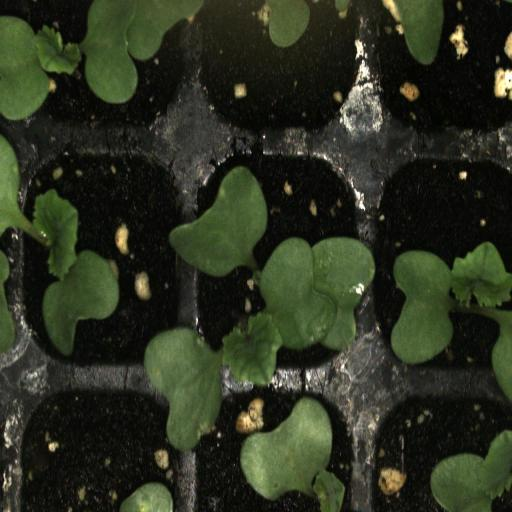Folha: (0, 0, 208, 123), (240, 396, 345, 512), (169, 166, 268, 277), (430, 429, 512, 512), (396, 0, 444, 65), (266, 0, 311, 49)
Germinacao: (192, 145, 369, 381), (14, 146, 194, 376), (370, 144, 512, 380)
